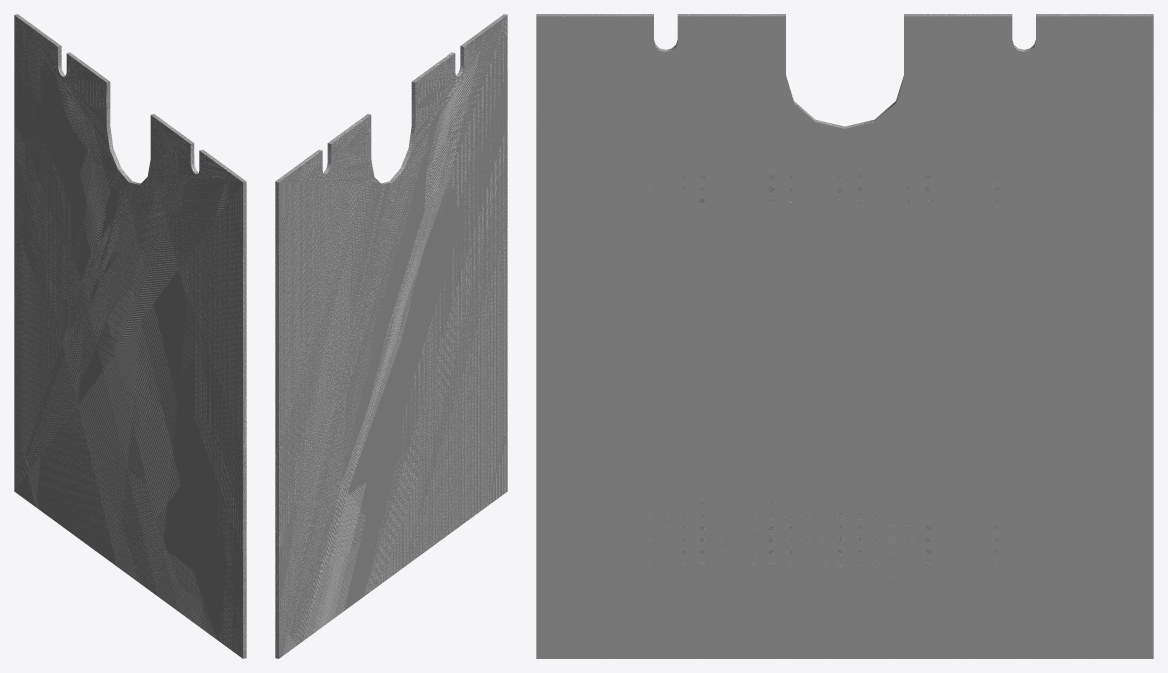
The model's file is original-17.obj.
3 views of the same model, side by side, from view 1: azimuth 30°, elevation 25°; view 2: azimuth 150°, elevation 25°; view 3: azimuth 270°, elevation 25° (orthographic). The views are drawn at different scales.
Visible parts, largest first — view 1: CGM_CAP_HW_Box_Back1/CGM_CAP_HW_Box_Back/mesh5/mesh5-geometry#me; view 2: CGM_CAP_HW_Box_Back1/CGM_CAP_HW_Box_Back/mesh5/mesh5-geometry#me; view 3: CGM_CAP_HW_Box_Back1/CGM_CAP_HW_Box_Back/mesh5/mesh5-geometry#me.
Boxes of the visible parts, x1,y1,x2,y2 form: CGM_CAP_HW_Box_Back1/CGM_CAP_HW_Box_Back/mesh5/mesh5-geometry#me: [14, 14, 246, 658]; CGM_CAP_HW_Box_Back1/CGM_CAP_HW_Box_Back/mesh5/mesh5-geometry#me: [275, 14, 507, 658]; CGM_CAP_HW_Box_Back1/CGM_CAP_HW_Box_Back/mesh5/mesh5-geometry#me: [536, 14, 1153, 658].
Size of the model in its own units: 0.00582 by 0.7215 by 0.6284.
Materials: 4 (1 with a texture image).
